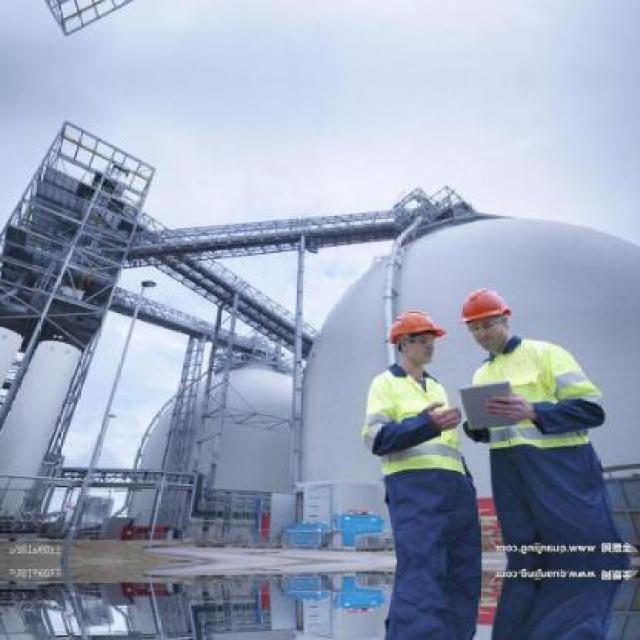Reflective-Jacket: (468, 334, 614, 456), (352, 365, 476, 486)
Safety-Helmet: (374, 304, 451, 353), (452, 282, 518, 332)
